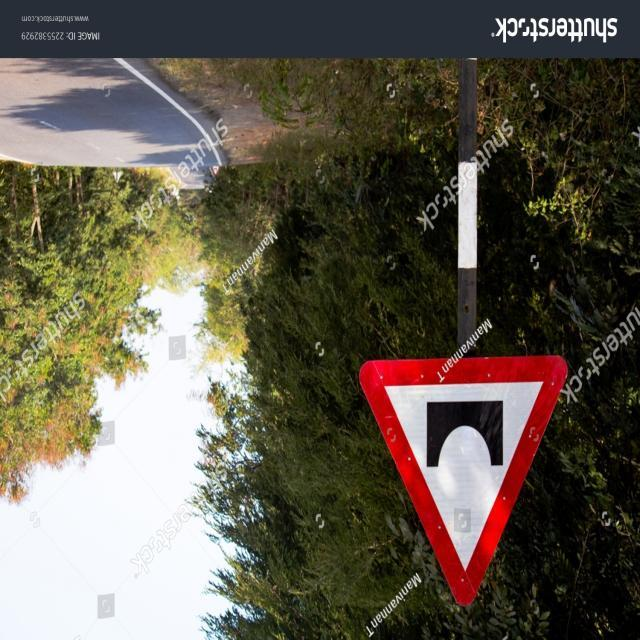Traffic sign: (346, 347, 572, 611)
